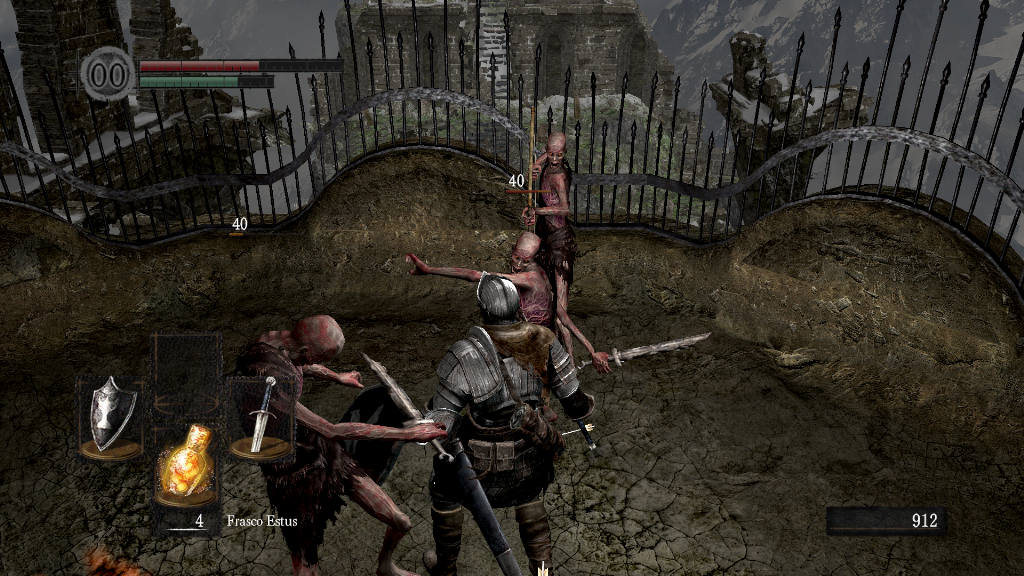health: (138, 58, 343, 71)
hollow: (233, 311, 455, 576), (404, 230, 616, 377), (520, 104, 576, 367)
humanity: (80, 45, 136, 102)
player: (327, 269, 598, 576)
souls: (825, 506, 945, 536)
stamina: (138, 74, 274, 88)
